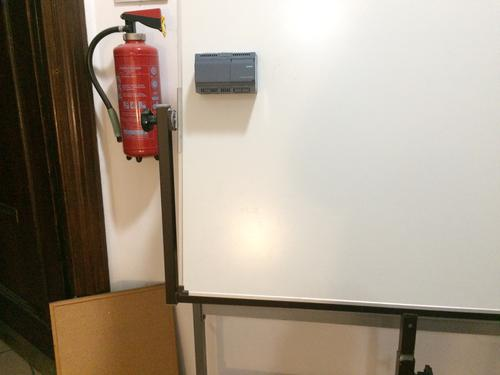iot2000: (194, 52, 259, 95)
